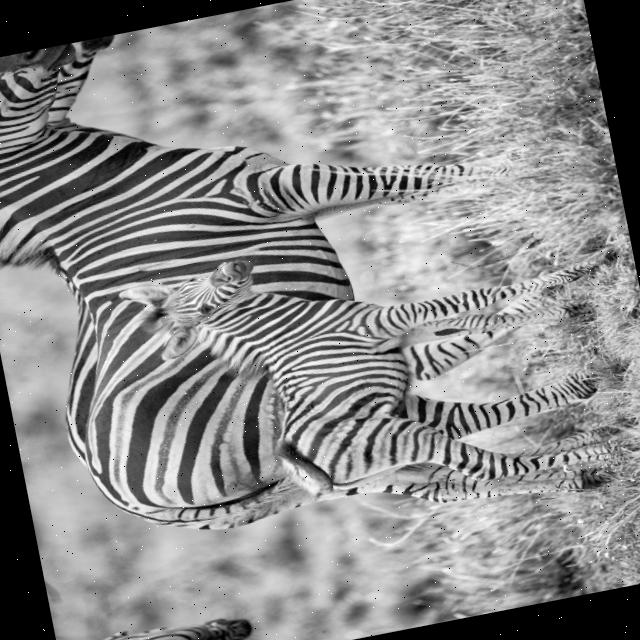Zebra: (0, 0, 607, 596), (115, 188, 640, 545), (56, 601, 270, 640)
